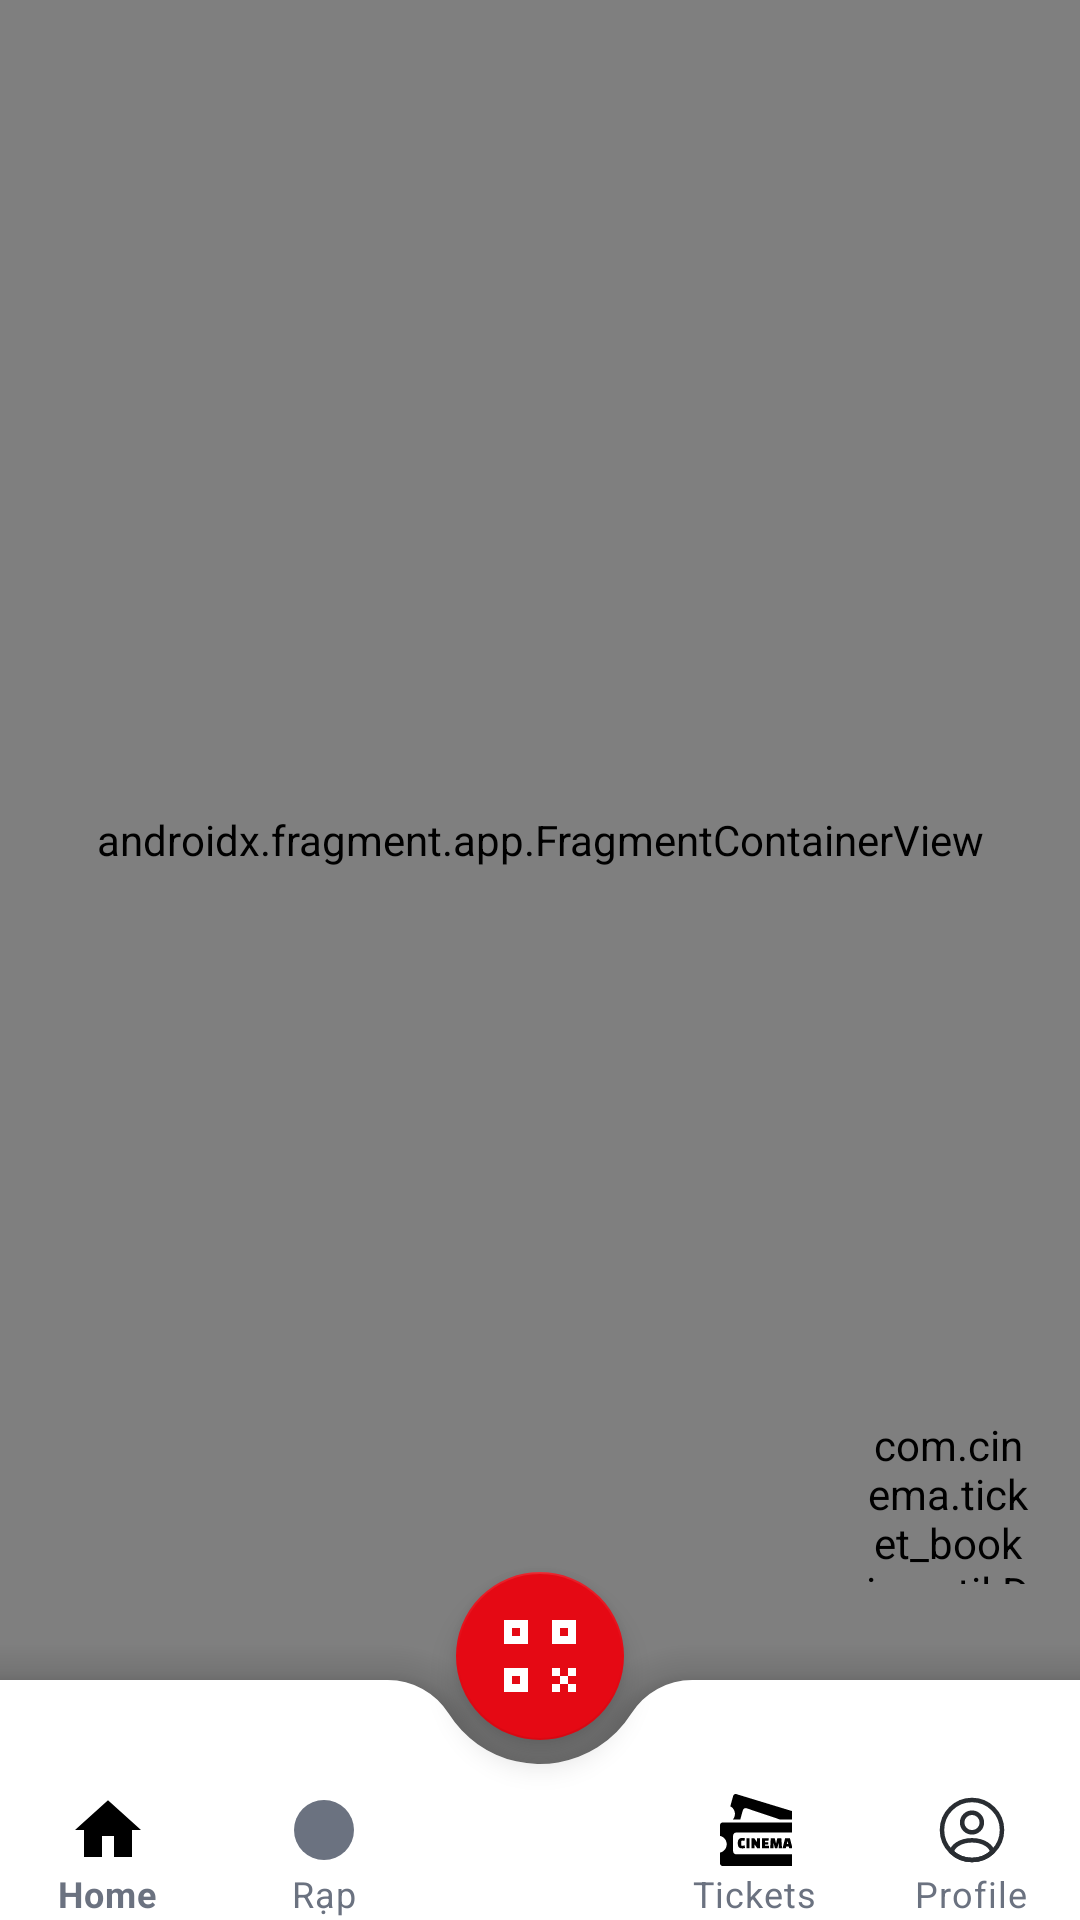

Screen size 1080 × 1920. Icon name, then its center in pixels as point (x, y):
QR Scanner: point (540, 1680)
